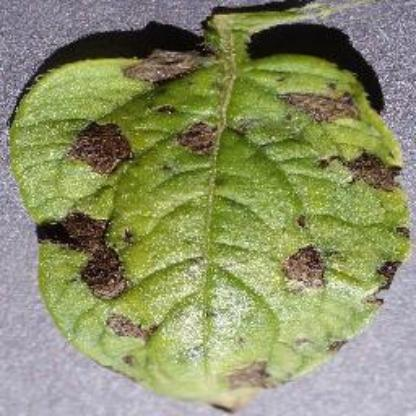Early-Blight: (8, 6, 410, 408)
